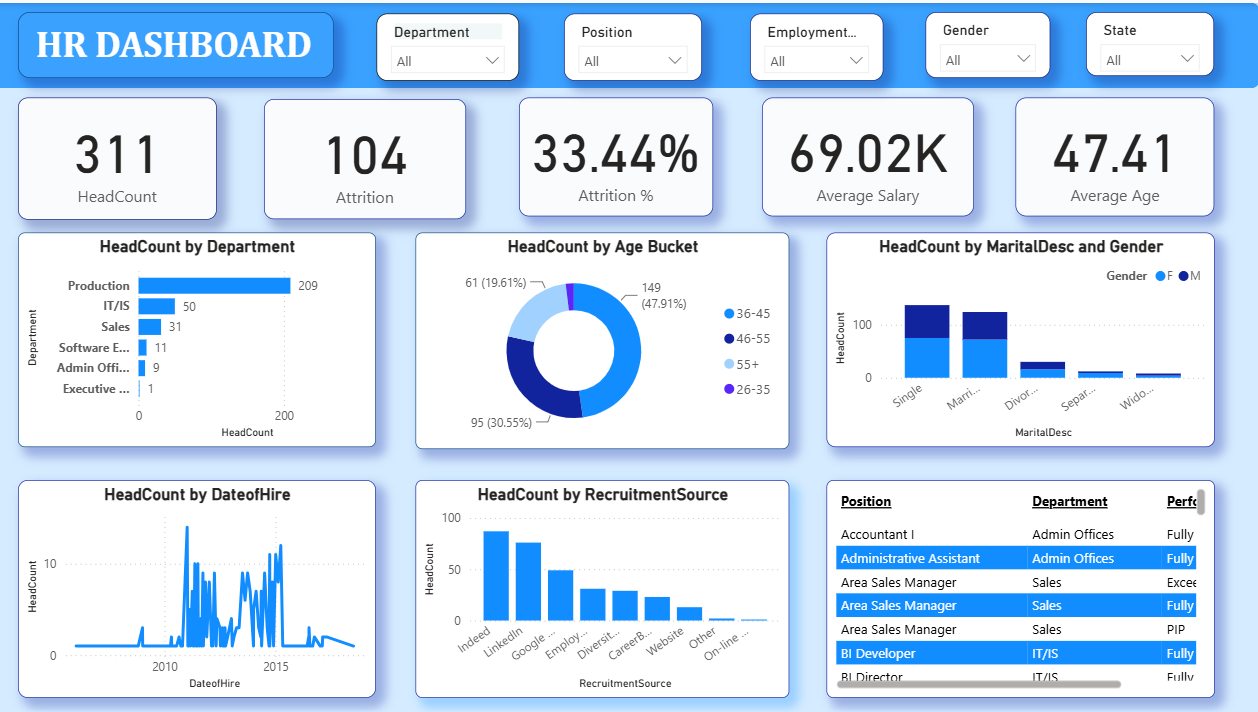

Layout of this report page (visuals, bound fields, positions):
{"tool":"powerbi","page":{"name":"Page 1","canvas":[1280,720],"ordinal":0},"visuals":[{"type":"shape","box":[0,0,1280.8,85.8],"z":0},{"type":"card","fields":{"Values":["Measure.HeadCount"]},"box":[27.5,95.5,200.8,123.1],"z":1000},{"type":"card","fields":{"Values":["Measure.Attrition %"]},"box":[532.7,95.5,195.9,119.8],"z":2000},{"type":"card","fields":{"Values":["Measure.Attrition"]},"box":[275.3,97.2,204,121.4],"z":3000},{"type":"card","fields":{"Values":["Measure.Average Salary"]},"box":[778.8,95.5,213.7,119.8],"z":4000},{"type":"card","fields":{"Values":["Measure.Average Age"]},"box":[1034.7,95.5,200.8,119.8],"z":5000},{"type":"barChart","fields":{"Y":["Measure.HeadCount"],"Category":["HRDataset_v14.Department"]},"box":[27.5,231.5,361.1,217],"z":6000},{"type":"donutChart","fields":{"Category":["HRDataset_v14.Age Bucket"],"Y":["Measure.HeadCount"]},"box":[429.1,231.5,377.3,218.6],"z":7000},{"type":"lineChart","fields":{"Category":["HRDataset_v14.DateofHire"],"Y":["Measure.HeadCount"]},"box":[27.5,480.9,361.1,220.2],"z":8000},{"type":"columnChart","fields":{"Category":["HRDataset_v14.MaritalDesc"],"Y":["Measure.HeadCount"],"Series":["HRDataset_v14.Gender"]},"box":[843.6,231.5,391.9,217],"z":9000},{"type":"columnChart","fields":{"Category":["HRDataset_v14.RecruitmentSource"],"Y":["Measure.HeadCount"]},"box":[429.1,480.9,377.3,220.2],"z":10000},{"type":"tableEx","fields":{"Values":["HRDataset_v14.Position","HRDataset_v14.Department","HRDataset_v14.PerformanceScore"]},"box":[843.6,480.9,391.9,220.2],"z":11000},{"type":"slicer","fields":{"Values":["HRDataset_v14.Department"]},"box":[388.6,11.3,144.1,68],"z":12000},{"type":"slicer","fields":{"Values":["HRDataset_v14.Gender"]},"box":[944,9.7,126.3,66.4],"z":13000},{"type":"slicer","fields":{"Values":["HRDataset_v14.Position"]},"box":[578.1,11.3,139.3,68],"z":14000},{"type":"slicer","fields":{"Values":["HRDataset_v14.EmploymentStatus"]},"box":[765.9,11.3,134.4,68],"z":15000},{"type":"textbox","box":[27.5,9.7,319,66.4],"z":16000},{"type":"slicer","fields":{"Values":["HRDataset_v14.State"]},"box":[1105.9,9.7,129.5,64.8],"z":17000}]}

Visuals, with their boxes in screenshot pixels (x1, y1, x2, y2), scaled from the page's 1280x720 canvas onto the 1258x712 screenshot:
shape: [0,0,1257,85]
card - Measure.HeadCount: [27,94,224,216]
card - Measure.Attrition %: [524,94,716,213]
card - Measure.Attrition: [271,96,471,216]
card - Measure.Average Salary: [765,94,975,213]
card - Measure.Average Age: [1017,94,1214,213]
barChart - Measure.HeadCount x HRDataset_v14.Department: [27,229,382,444]
donutChart - HRDataset_v14.Age Bucket x Measure.HeadCount: [422,229,793,445]
lineChart - HRDataset_v14.DateofHire x Measure.HeadCount: [27,476,382,693]
columnChart - HRDataset_v14.MaritalDesc x Measure.HeadCount: [829,229,1214,444]
columnChart - HRDataset_v14.RecruitmentSource x Measure.HeadCount: [422,476,793,693]
tableEx - HRDataset_v14.Position x HRDataset_v14.Department: [829,476,1214,693]
slicer - HRDataset_v14.Department: [382,11,524,78]
slicer - HRDataset_v14.Gender: [928,10,1052,75]
slicer - HRDataset_v14.Position: [568,11,705,78]
slicer - HRDataset_v14.EmploymentStatus: [753,11,885,78]
textbox: [27,10,341,75]
slicer - HRDataset_v14.State: [1087,10,1214,74]
